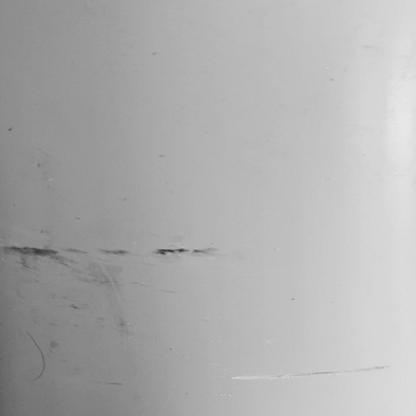sunshang: (233, 361, 391, 382), (21, 328, 53, 385)
